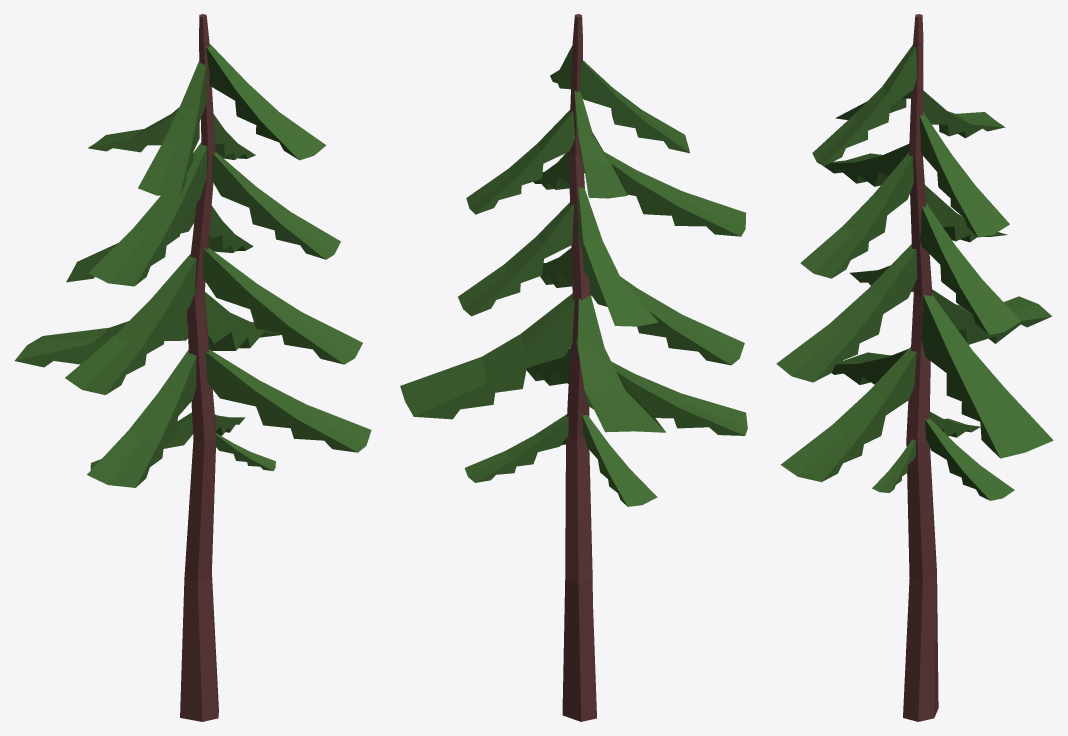
Rendered from Flat_Tree_Pine_hero.glb.
The picture shows the model from 3 angles, left to right: view 1: azimuth 30°, elevation 25°; view 2: azimuth 150°, elevation 25°; view 3: azimuth 270°, elevation 25°; orthographic projection.
Visible parts, largest first — view 1: Pine hero f; view 2: Pine hero f; view 3: Pine hero f.
Boxes of the visible parts, x1=… form: Pine hero f: x1=14, y1=14, x2=371, y2=721; Pine hero f: x1=400, y1=14, x2=747, y2=721; Pine hero f: x1=776, y1=14, x2=1053, y2=721.
Bounding box in the file's own units: 11.74 × 27.57 × 9.93.
